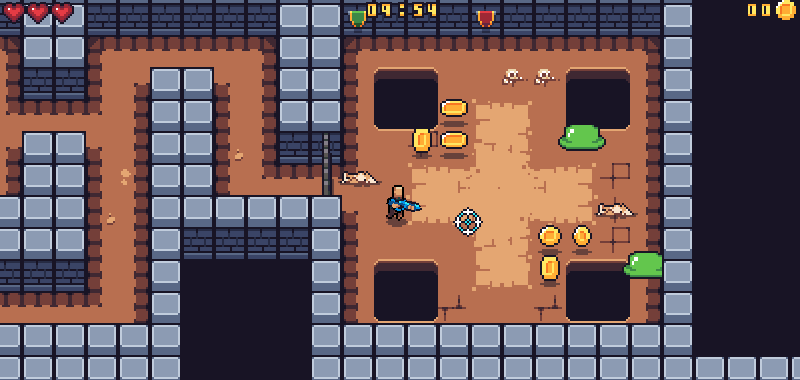enemy_slug_big: (618, 250, 667, 281), (555, 123, 605, 150)
gold: (408, 124, 434, 155), (539, 253, 563, 283), (438, 129, 469, 152), (569, 222, 593, 251), (439, 96, 469, 119), (536, 222, 563, 247)
trap_door: (315, 123, 340, 207)
